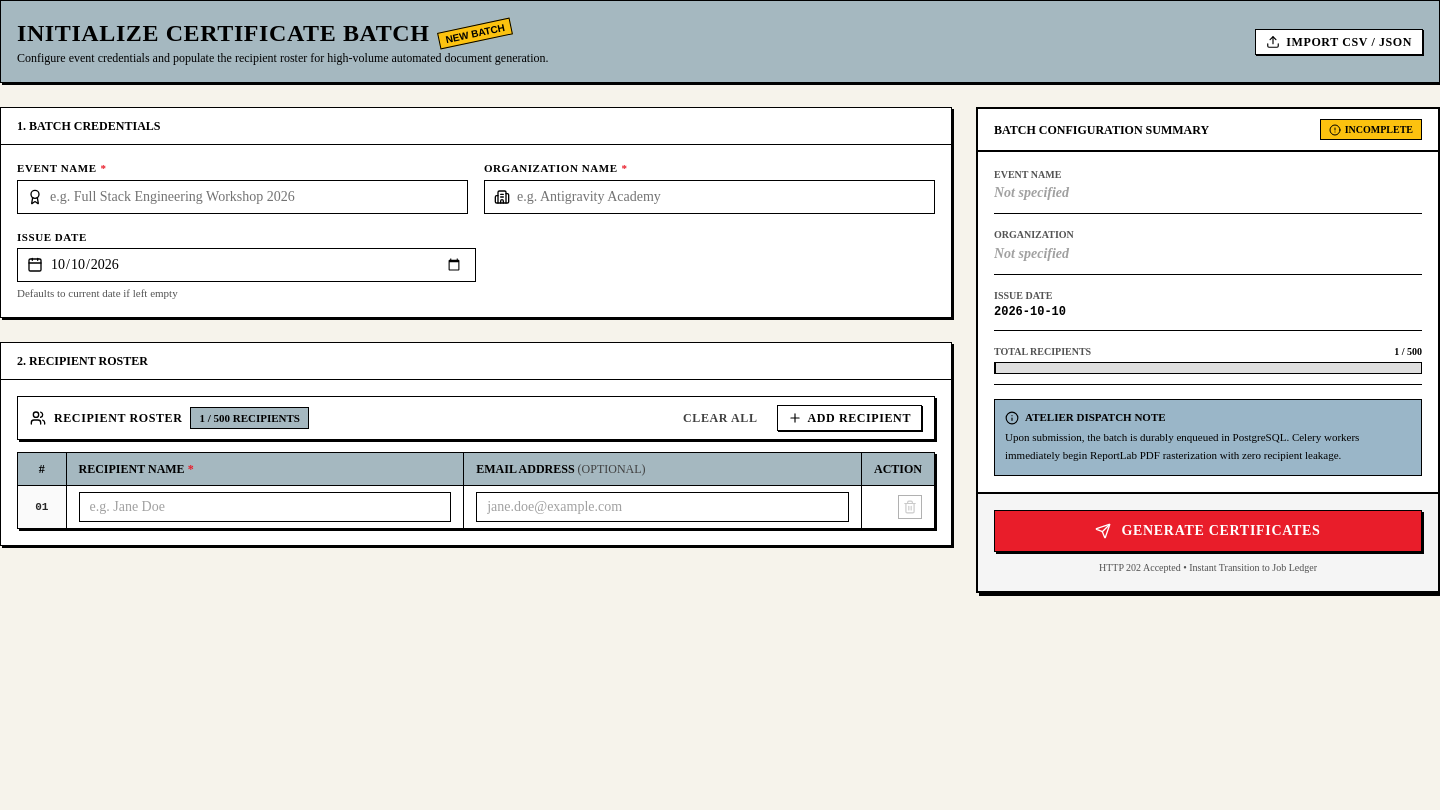
Test: CreateJobPage › 8. Invalid email format is caught by validation
This screenshot has width=1440, height=810.
Type "Ada Lovelace" into the field named "Recipient 01 Name" at (265,507), box [78,492,451,522]
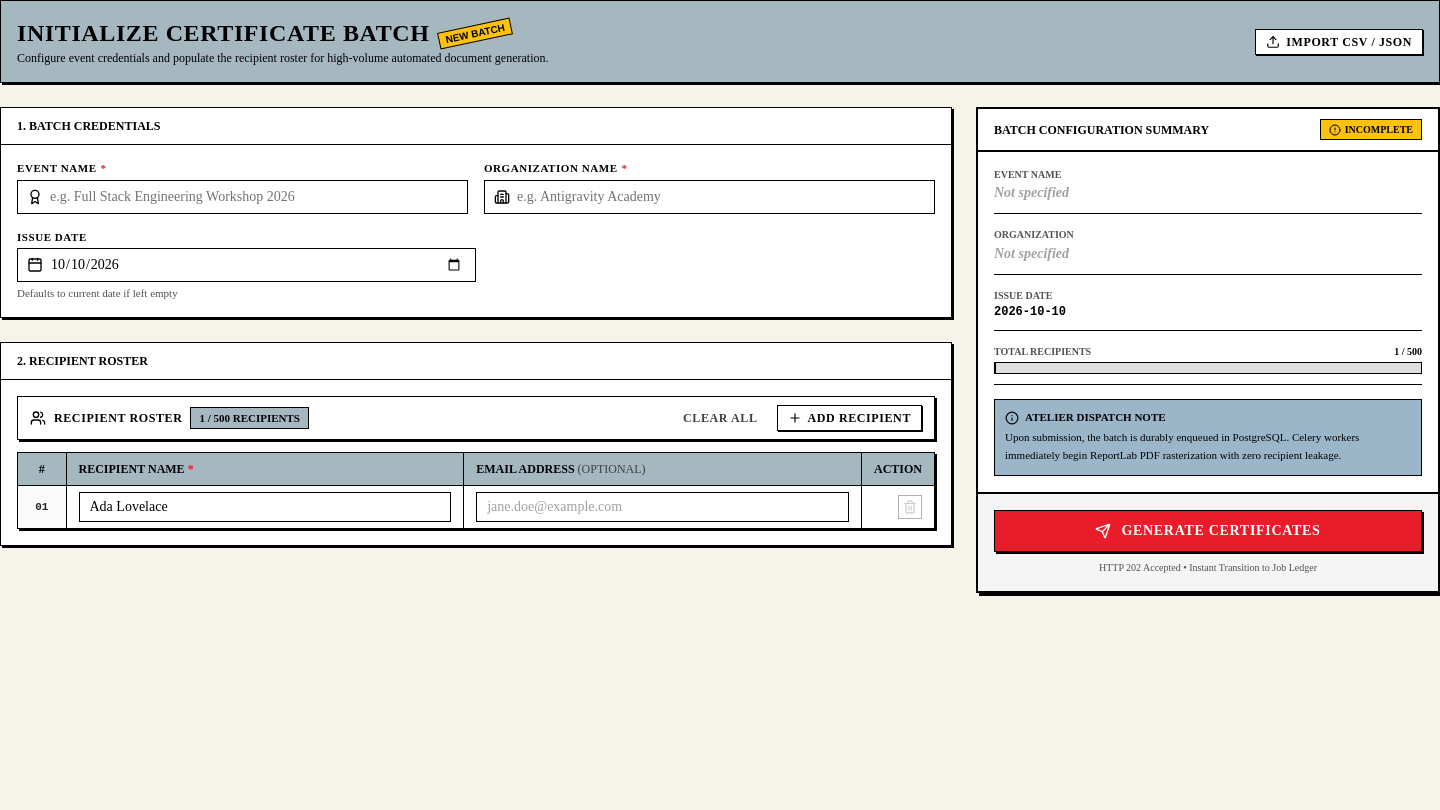
Type "invalid-email-address" into the field named "Recipient 01 Email" at (663,507), box [476,492,849,522]
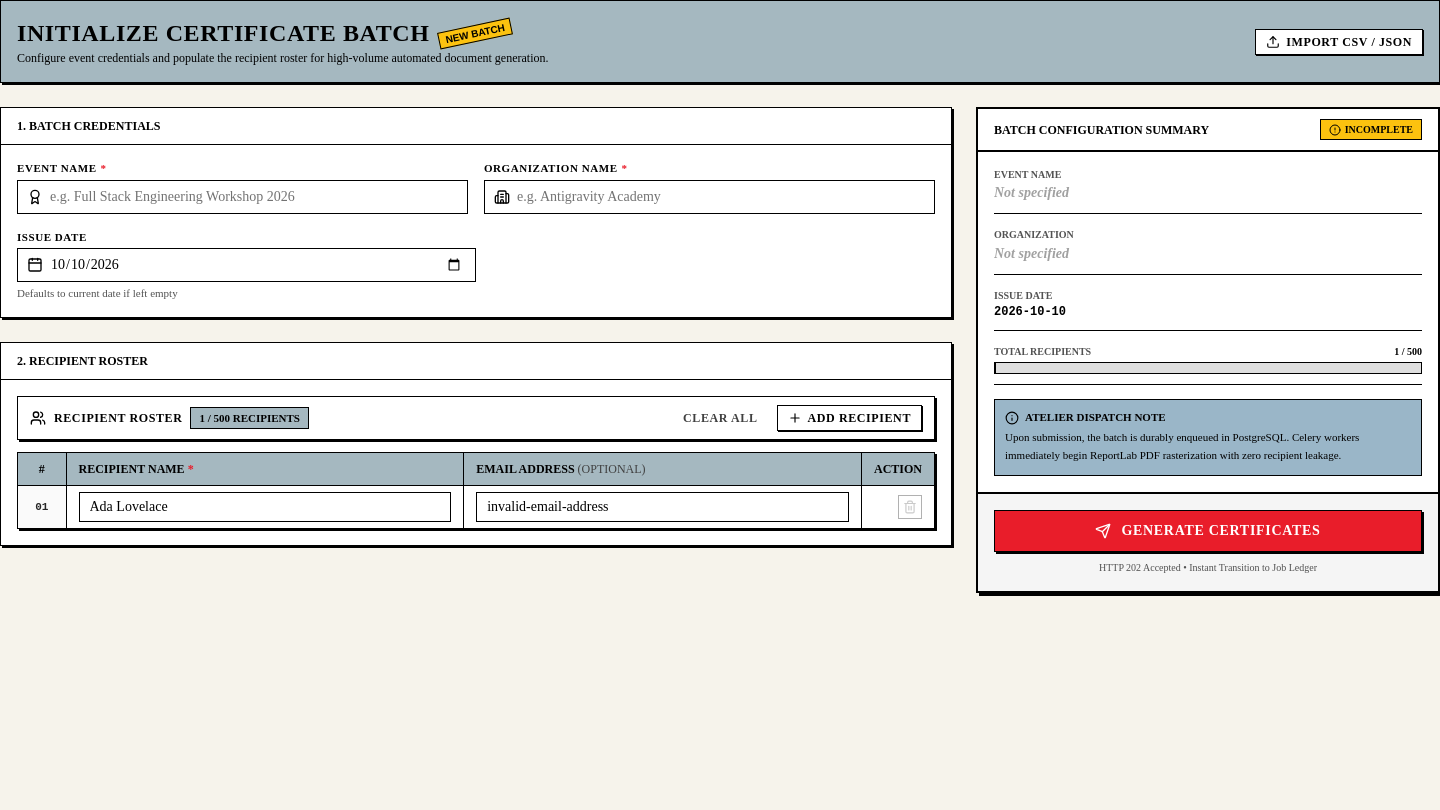
Click the button "Generate Certificates" at (1208,531), box [994,510,1422,552]
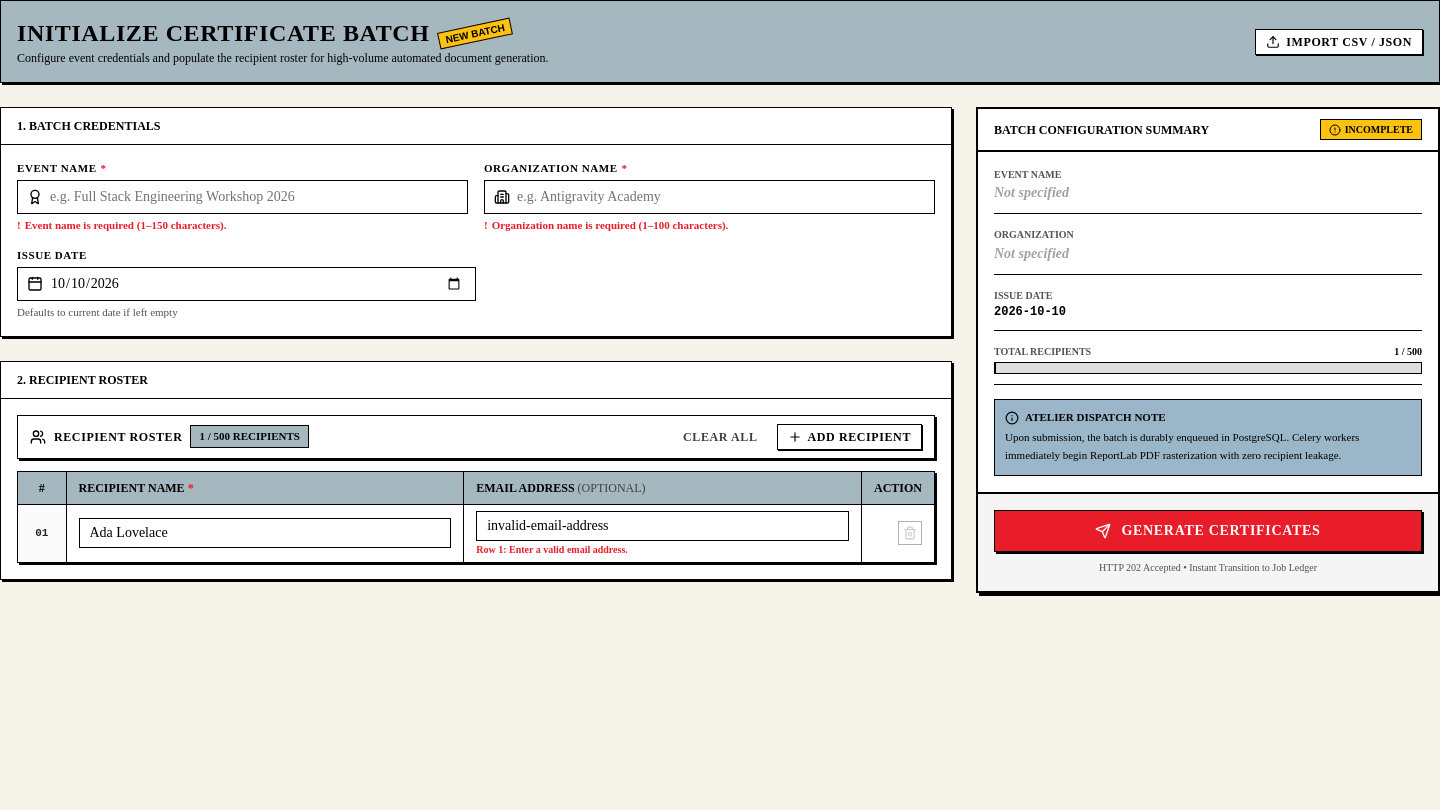
expect the text "Row 1: Enter a valid email address." is shown: met, box [476,544,628,555]
